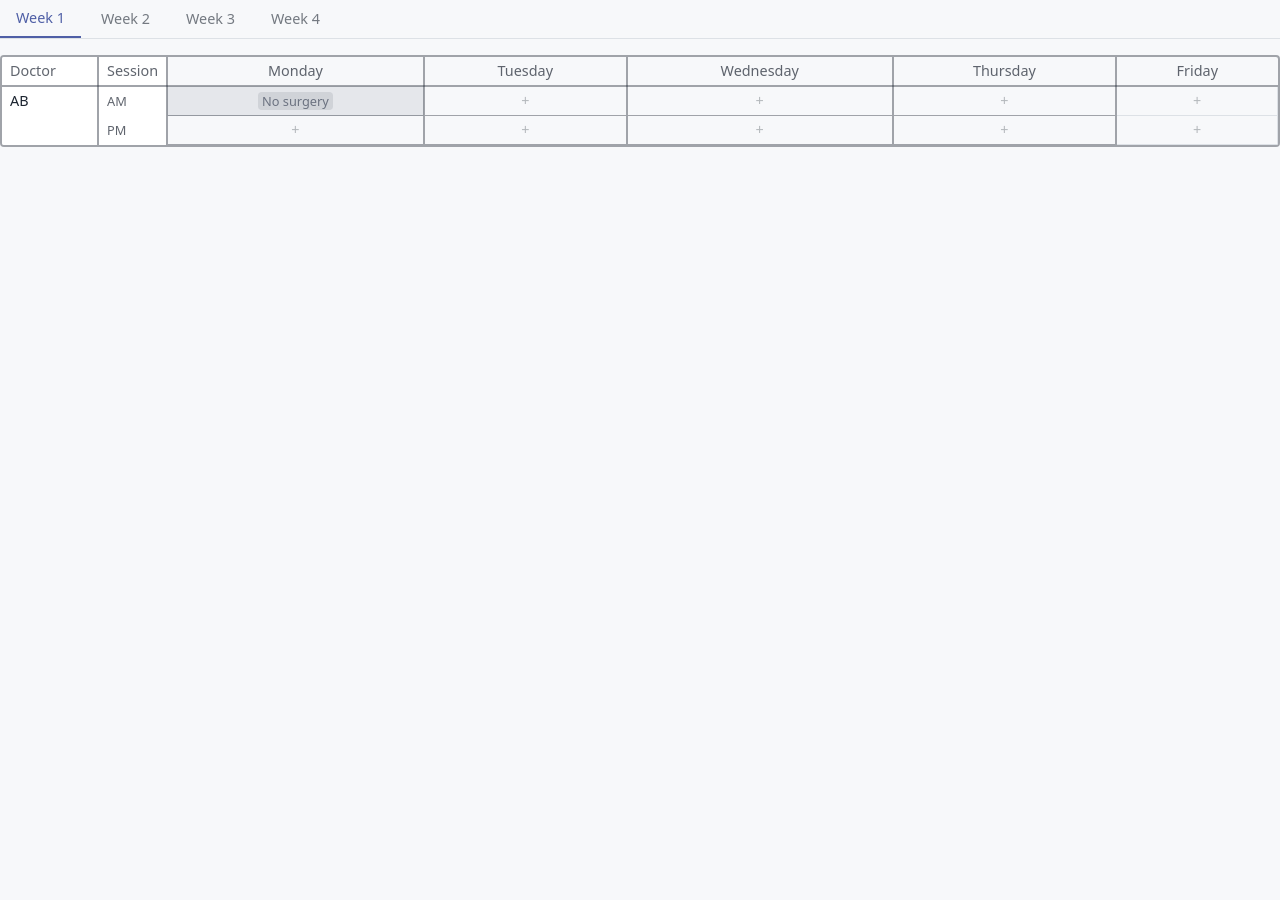
Scenario: MasterRotaGrid: delete › a successful delete removes the cell content, driven by the live query cache filter
Click the text "No surgery": click(295, 101) top-left (258, 92), bottom-right (333, 110)
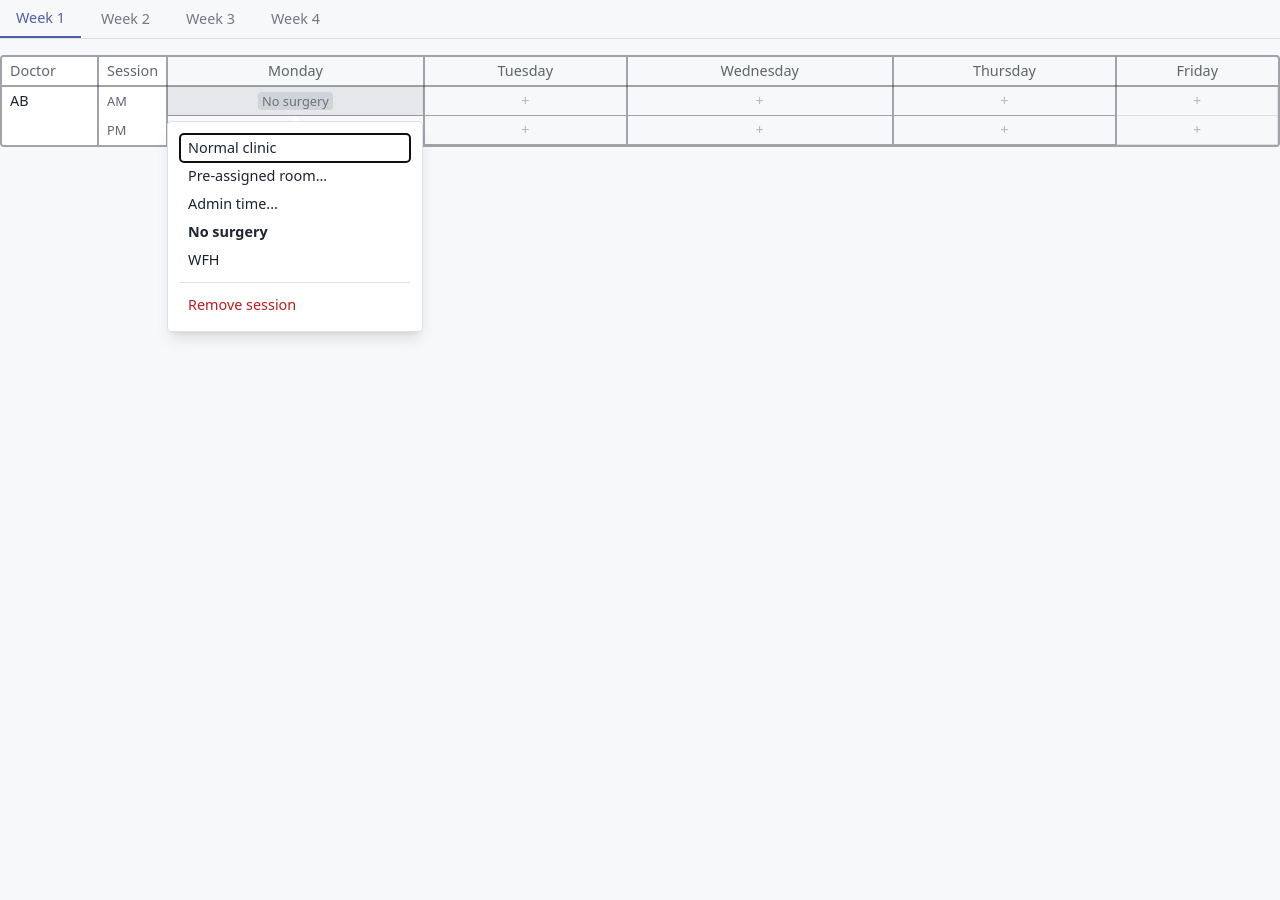
Click the button "Remove session": click(295, 305) top-left (180, 291), bottom-right (410, 319)
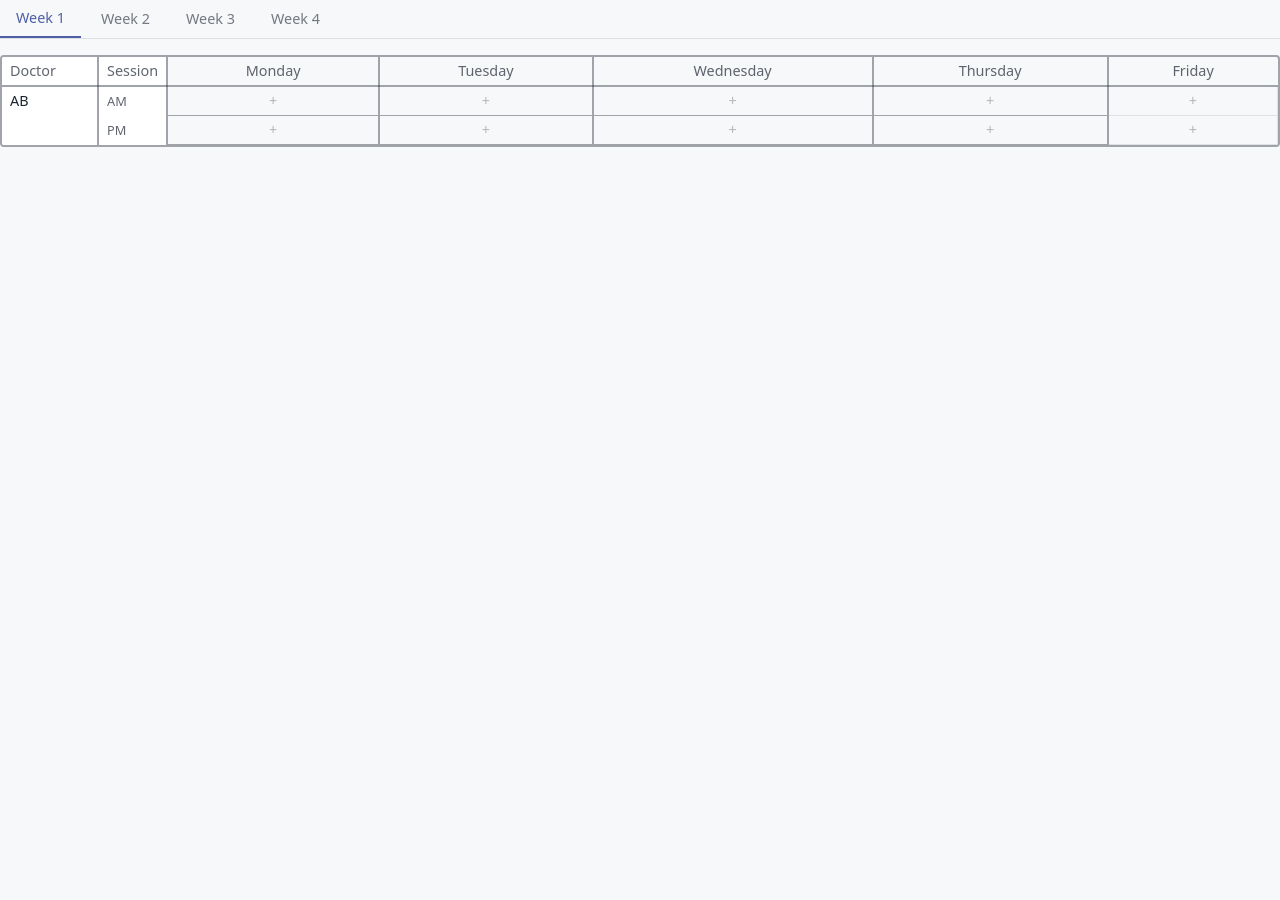
Result: the button named "Add session for AB Monday AM" is shown at top-left (176, 91), bottom-right (370, 111)
Result: the text "No surgery" is gone
